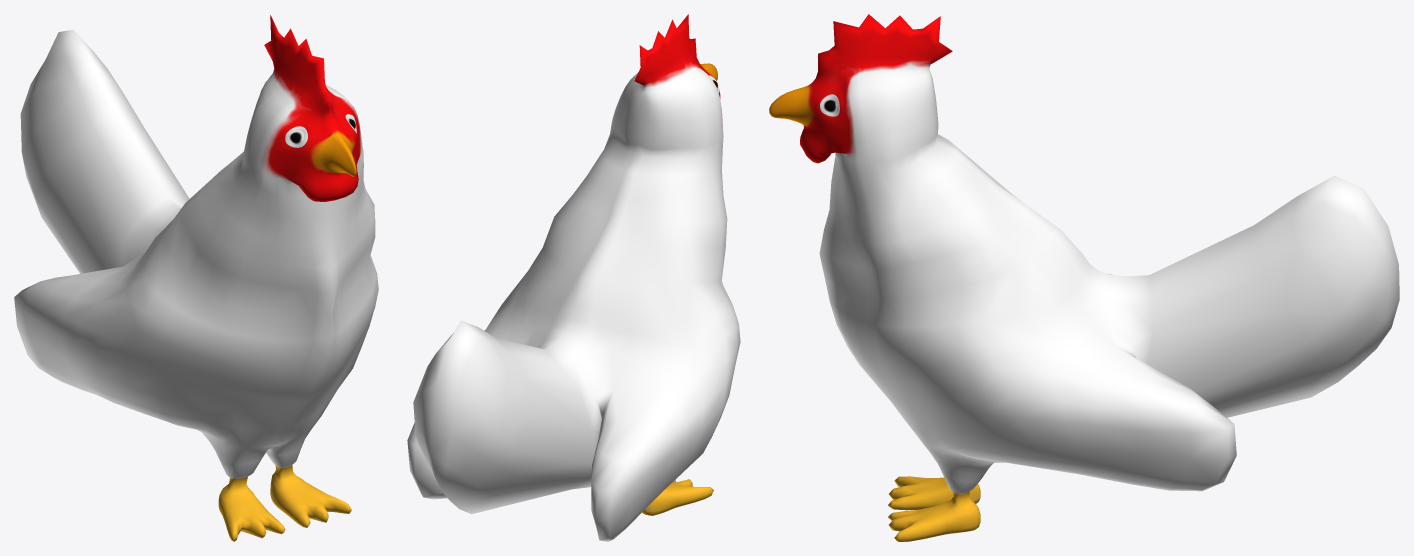
Rendered from niwatori.fbx.
The picture shows the model from 3 angles, left to right: view 1: azimuth 30°, elevation 25°; view 2: azimuth 150°, elevation 25°; view 3: azimuth 270°, elevation 25°; orthographic projection. The views are drawn at different scales.
Parts seen in each view (by area): view 1: niwatori; view 2: niwatori; view 3: niwatori.
Part boxes in pixels (x1,y1,x2,y2): niwatori: (14, 15, 378, 541); niwatori: (407, 14, 740, 541); niwatori: (769, 14, 1399, 541).
Bounding box in the file's own units: 22.06 × 39.56 × 44.97.
1 material, 1 textured.
